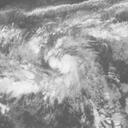cyclone: (44, 51, 105, 107)
